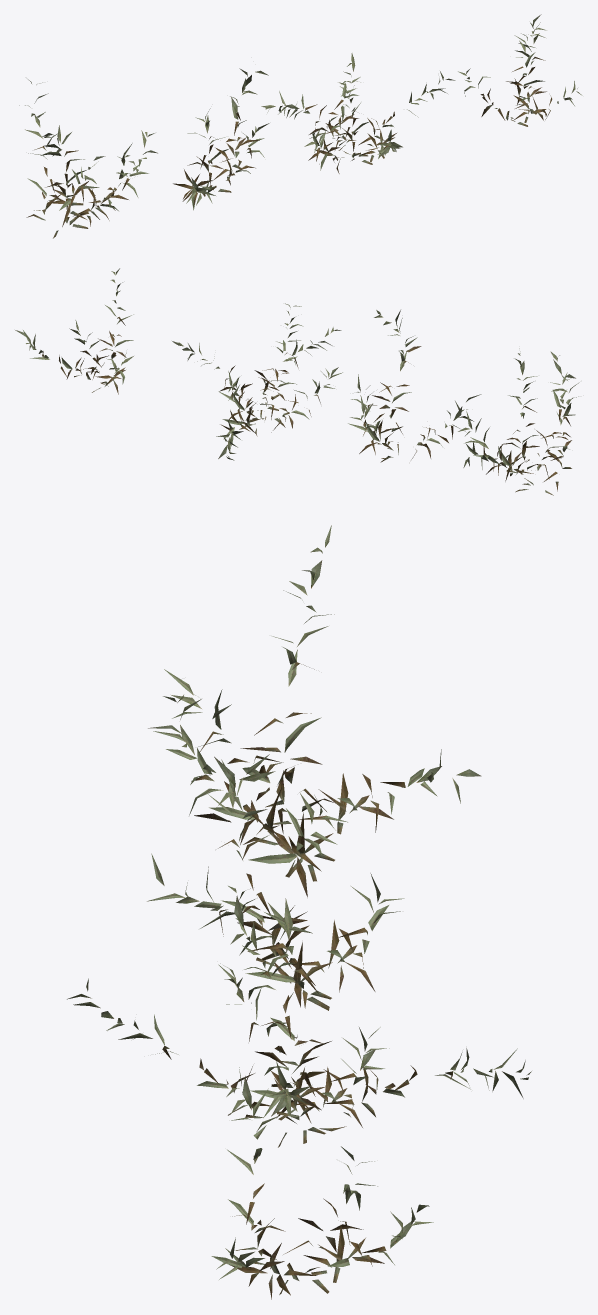
Rendered from shrub_02_lod2.glb.
3 views of the same model, one above another, from view 1: azimuth 30°, elevation 25°; view 2: azimuth 150°, elevation 25°; view 3: azimuth 270°, elevation 25° (orthographic). The views are drawn at different scales.
Visible parts, largest first — view 1: shrub_02_a, shrub_02_c, shrub_02_b, shrub_02_d; view 2: shrub_02_c, shrub_02_a, shrub_02_b, shrub_02_d; view 3: shrub_02_a, shrub_02_c, shrub_02_b, shrub_02_d.
Boxes of the visible parts, x1,y1,x2,y2 form: shrub_02_a: (19, 79, 157, 238); shrub_02_c: (261, 53, 455, 173); shrub_02_b: (173, 68, 269, 210); shrub_02_d: (458, 14, 582, 126); shrub_02_c: (172, 303, 342, 460); shrub_02_a: (458, 348, 579, 495); shrub_02_b: (348, 310, 481, 462); shrub_02_d: (15, 268, 133, 394); shrub_02_a: (148, 525, 481, 897); shrub_02_c: (67, 886, 531, 1147); shrub_02_b: (147, 754, 404, 1010); shrub_02_d: (211, 1067, 433, 1299).
Bounding box in the file's own units: 6.05 × 1.68 × 2.28.
1 material, 1 textured.
